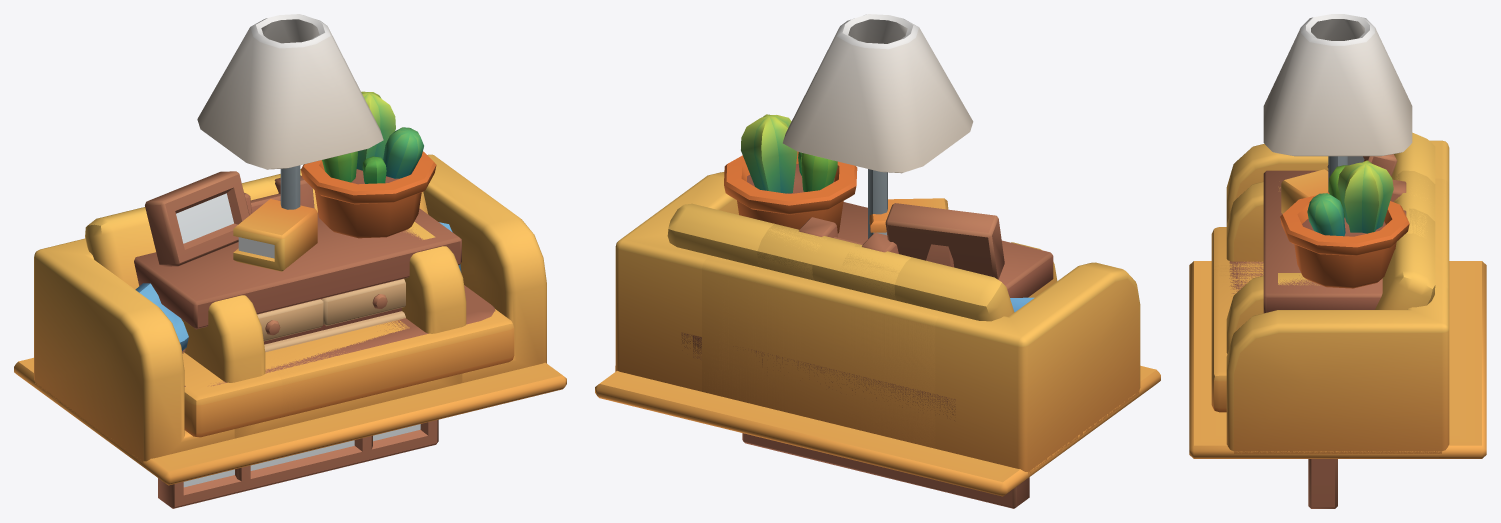
File: kaykit-furniture.glb
The picture shows the model from 3 angles, left to right: view 1: azimuth 30°, elevation 25°; view 2: azimuth 150°, elevation 25°; view 3: azimuth 270°, elevation 25°; orthographic projection. The views are drawn at different scales.
Visible parts, largest first — view 1: couch_pillows, cabinet_medium_decorated, armchair_pillows, lamp_standing, rug_rectangle_stripes_A, pictureframe_large_B, pictureframe_large_A, table_low, chair_A; view 2: couch_pillows, armchair_pillows, lamp_standing, cabinet_medium_decorated, rug_rectangle_stripes_A, pictureframe_large_B, pictureframe_large_A, chair_A, table_low; view 3: couch_pillows, cabinet_medium_decorated, lamp_standing, rug_rectangle_stripes_A, armchair_pillows, pictureframe_large_B, table_low.
Part boxes in pixels (x1=…): couch_pillows: x1=34, y1=154, x2=546, y2=463; cabinet_medium_decorated: x1=134, y1=91, x2=461, y2=352; armchair_pillows: x1=181, y1=169, x2=466, y2=438; lamp_standing: x1=197, y1=14, x2=383, y2=209; rug_rectangle_stripes_A: x1=14, y1=357, x2=566, y2=485; pictureframe_large_B: x1=158, y1=349, x2=438, y2=508; pictureframe_large_A: x1=235, y1=435, x2=372, y2=490; table_low: x1=184, y1=285, x2=495, y2=386; chair_A: x1=244, y1=175, x2=314, y2=214; couch_pillows: x1=615, y1=172, x2=1140, y2=474; armchair_pillows: x1=702, y1=224, x2=1057, y2=447; lamp_standing: x1=783, y1=14, x2=973, y2=238; cabinet_medium_decorated: x1=724, y1=114, x2=1053, y2=297; rug_rectangle_stripes_A: x1=595, y1=365, x2=1160, y2=496; pictureframe_large_B: x1=742, y1=433, x2=1029, y2=508; pictureframe_large_A: x1=810, y1=450, x2=943, y2=490; chair_A: x1=799, y1=217, x2=898, y2=253; table_low: x1=681, y1=332, x2=955, y2=420; couch_pillows: x1=1211, y1=132, x2=1449, y2=453; cabinet_medium_decorated: x1=1263, y1=154, x2=1409, y2=313; lamp_standing: x1=1263, y1=14, x2=1412, y2=192; rug_rectangle_stripes_A: x1=1189, y1=261, x2=1486, y2=458; armchair_pillows: x1=1212, y1=170, x2=1449, y2=353; pictureframe_large_B: x1=1308, y1=459, x2=1337, y2=508; table_low: x1=1229, y1=261, x2=1263, y2=293.
Size of the model in its own units: 3 by 3.12 by 2.
Materials: 13 (13 with a texture image).
